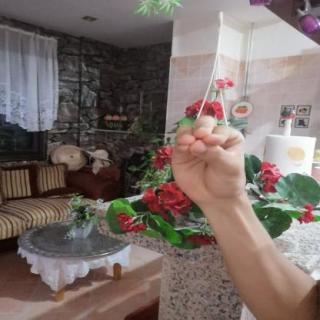HA: (164, 107, 256, 210)
